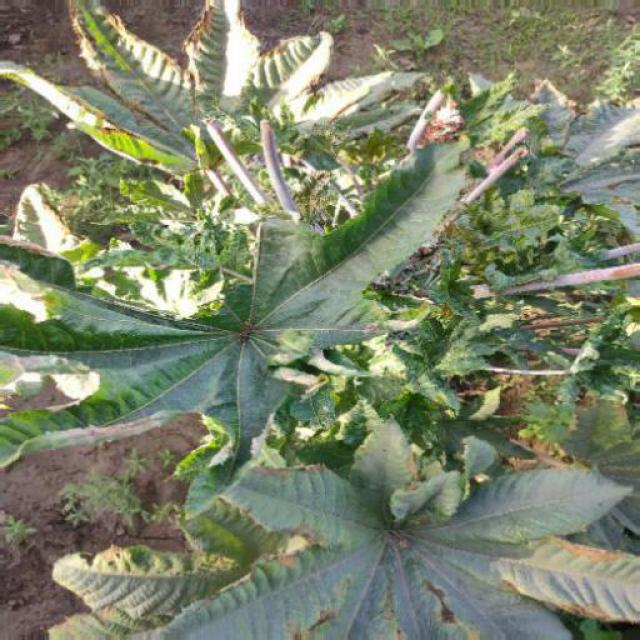weed: (15, 38, 621, 620)
